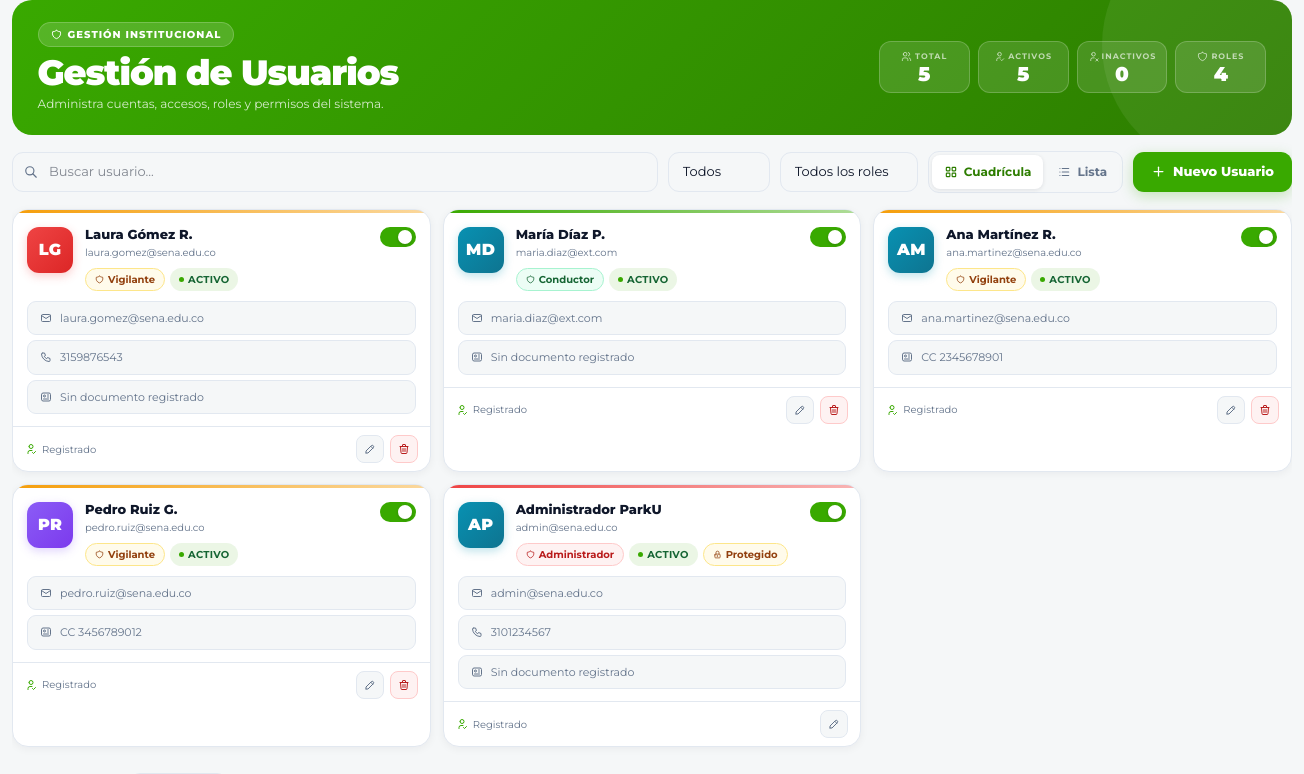
Scenario: Usuarios › muestra "No se encontraron usuarios" cuando el filtro no coincide con nada
Check: the text "Ana Martínez R." is shown, box [946,226,1056,242]
Type "usuario-inexistente-xyz" into the field named "Buscar usuarios". click: (335, 172)
box: [12,152,658,192]
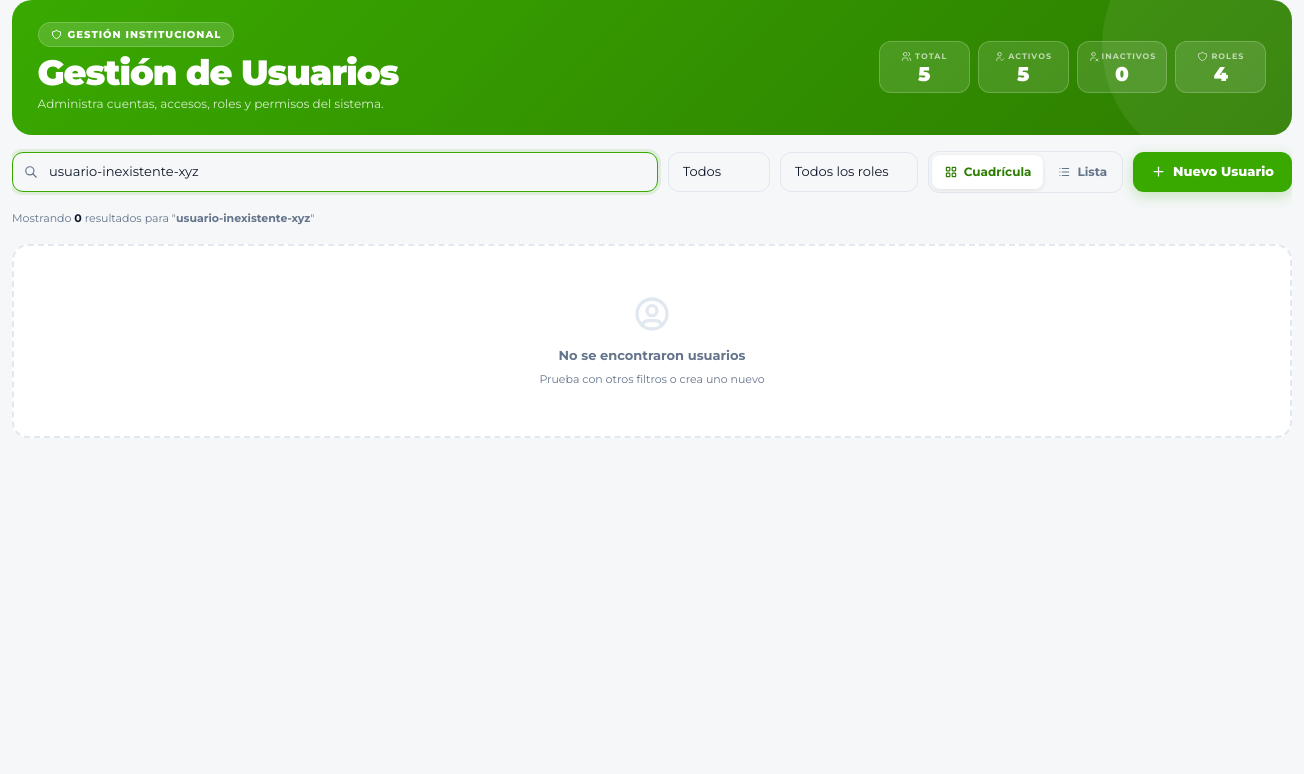
Check: the text "No se encontraron usuarios" is shown, box [558,344,745,366]
